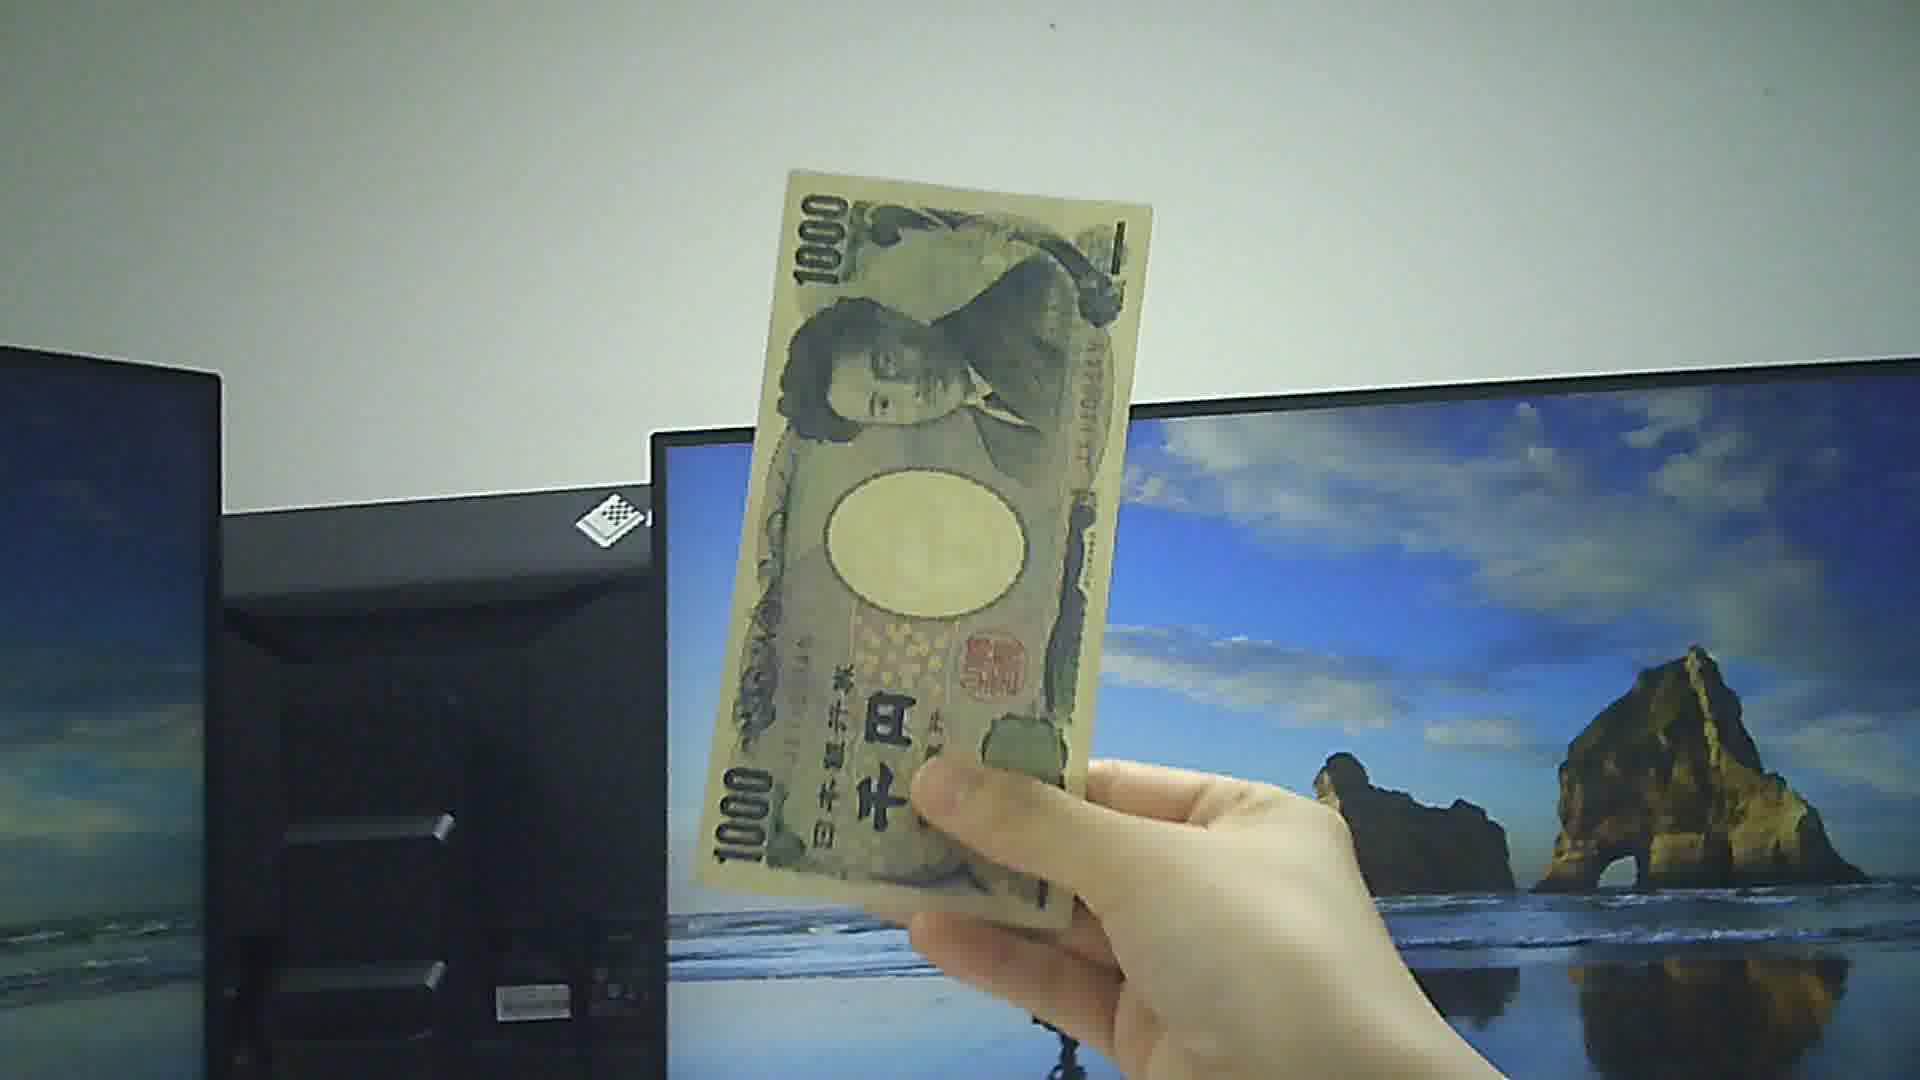1,000 Yen: (692, 164, 1155, 927)
